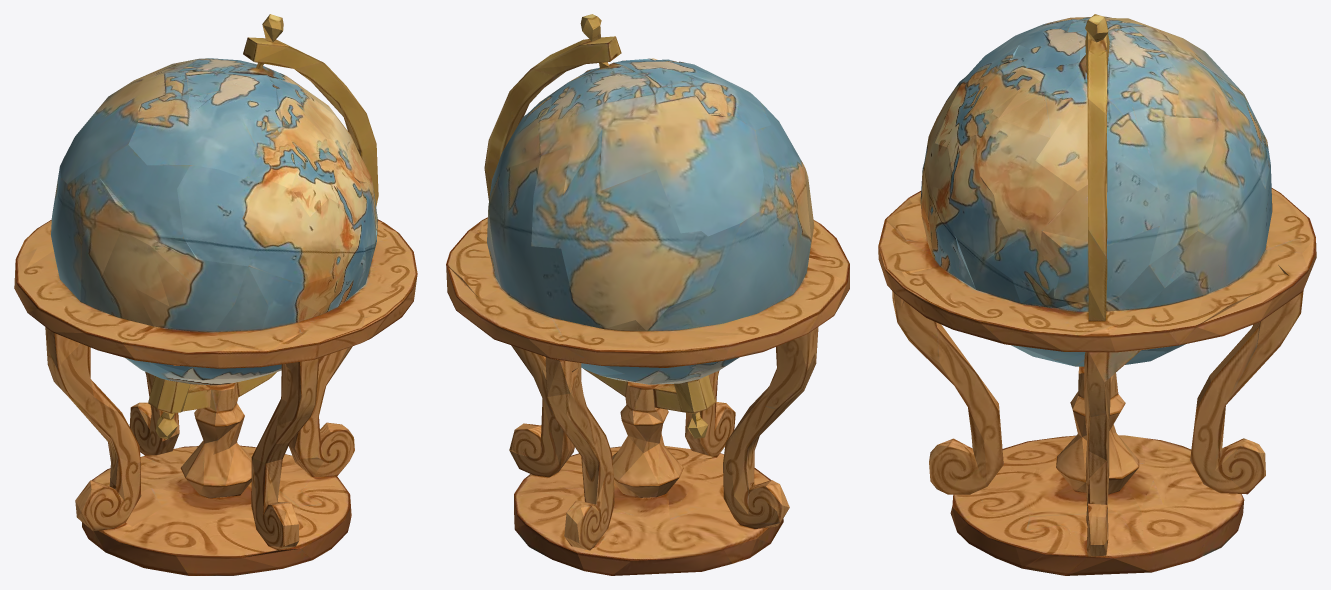
Rendered from globe.glb.
The picture shows the model from 3 angles, left to right: view 1: azimuth 30°, elevation 25°; view 2: azimuth 150°, elevation 25°; view 3: azimuth 270°, elevation 25°; orthographic projection. The views are drawn at different scales.
Bounding box in the file's own units: 1.41 × 1.89 × 1.42.
1 material, 1 textured.
